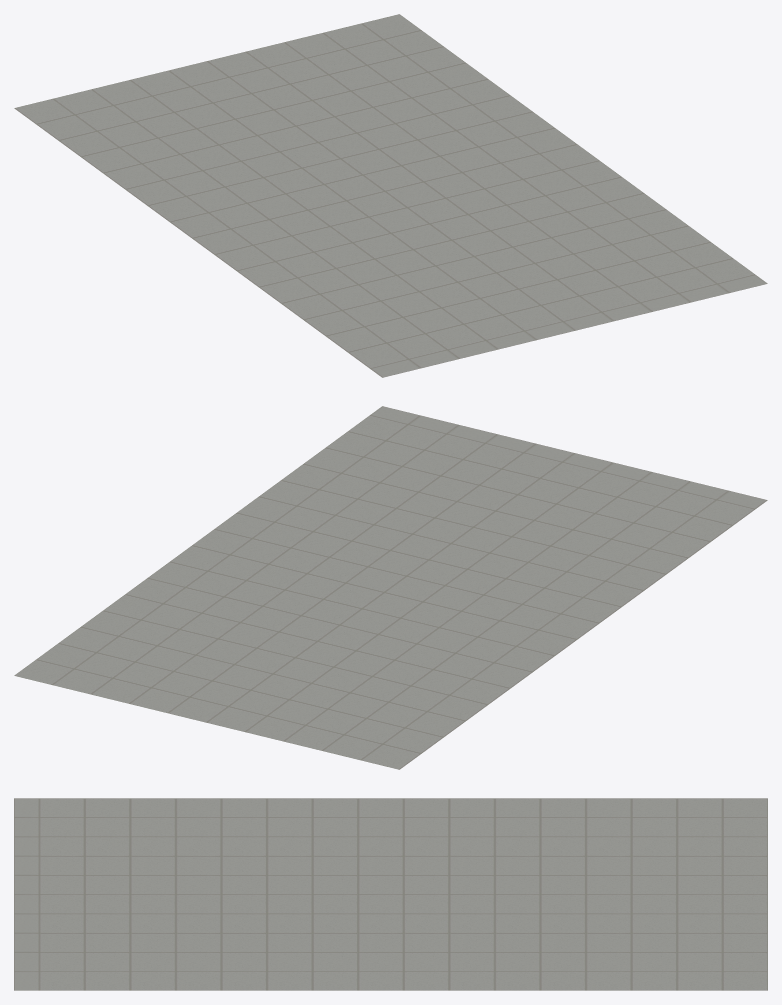
The model's file is Techo panel.fbx.
3 renders of one model, top to bottom at view 1: azimuth 30°, elevation 25°; view 2: azimuth 150°, elevation 25°; view 3: azimuth 270°, elevation 25°, orthographic. The views are drawn at different scales.
Visible parts, largest first — view 1: Plane; view 2: Plane; view 3: Plane.
Boxes of the visible parts, x1,y1,x2,y2 form: Plane: (14, 14, 767, 377); Plane: (14, 406, 767, 769); Plane: (14, 798, 767, 990).
Size of the model in its own units: 1000 by 0 by 1655.
Materials: 1 (1 with a texture image).
